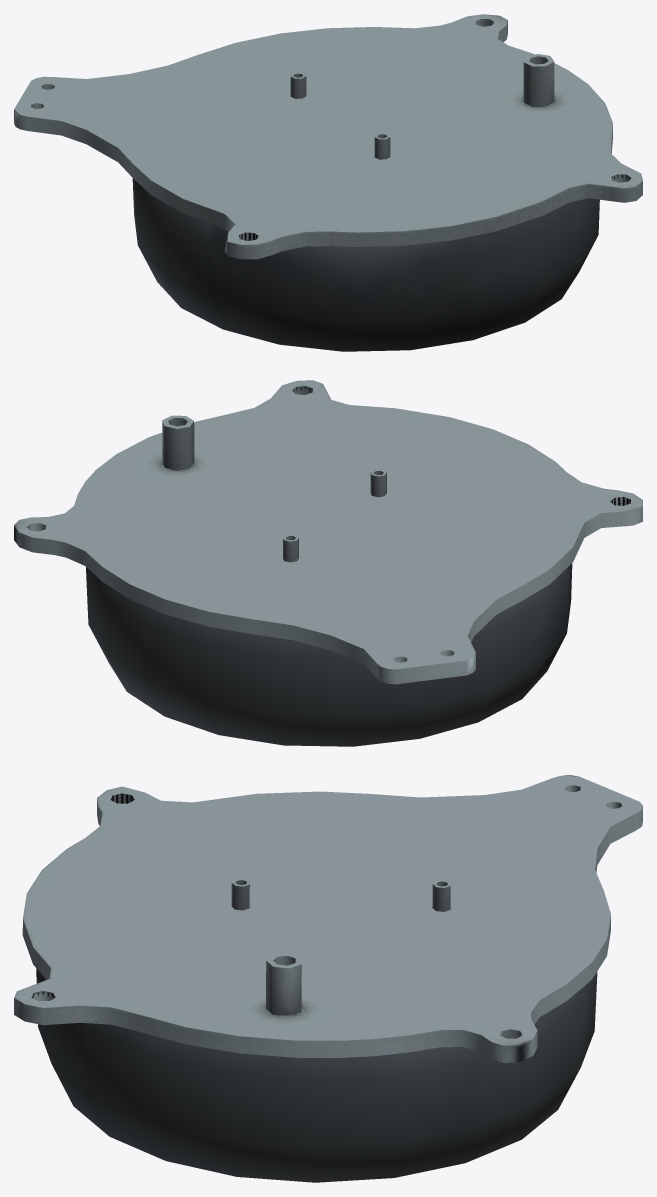
Rendered from kongqitanhuang_001.FBX.
3 renders of one model, top to bottom at view 1: azimuth 30°, elevation 25°; view 2: azimuth 150°, elevation 25°; view 3: azimuth 270°, elevation 25°, orthographic. The views are drawn at different scales.
Parts seen in each view (by area): view 1: ZXJ_dayuanqiu; view 2: ZXJ_dayuanqiu; view 3: ZXJ_dayuanqiu.
Part boxes in pixels (x1,y1,x2,y2): ZXJ_dayuanqiu: [14, 14, 642, 351]; ZXJ_dayuanqiu: [14, 380, 642, 746]; ZXJ_dayuanqiu: [14, 775, 642, 1182].
Size of the model in its own units: 0.8184 by 0.3264 by 0.8056.
